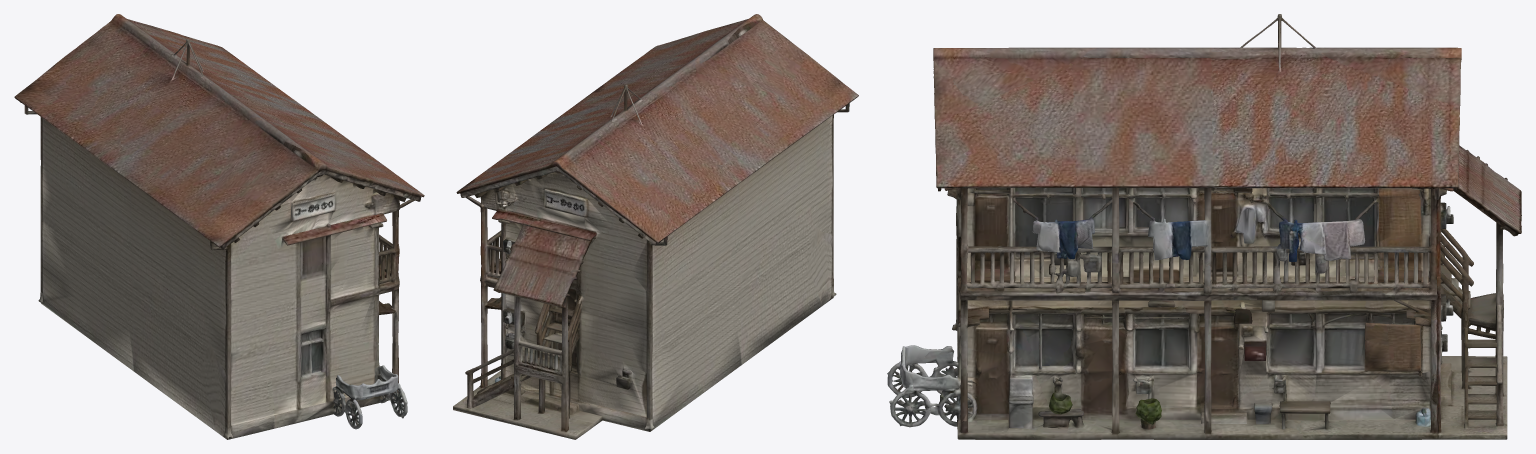
Rendered from apart.glb.
3 renders of one model, left to right at view 1: azimuth 30°, elevation 25°; view 2: azimuth 150°, elevation 25°; view 3: azimuth 270°, elevation 25°, orthographic. The views are drawn at different scales.
Visible parts, largest first — view 1: tripo_node_c4e6488b-d1ef-4af2-b8e8-cd70988db557; view 2: tripo_node_c4e6488b-d1ef-4af2-b8e8-cd70988db557; view 3: tripo_node_c4e6488b-d1ef-4af2-b8e8-cd70988db557.
Part boxes in pixels (x1=…): tripo_node_c4e6488b-d1ef-4af2-b8e8-cd70988db557: x1=14, y1=14, x2=424, y2=439; tripo_node_c4e6488b-d1ef-4af2-b8e8-cd70988db557: x1=453, y1=14, x2=858, y2=439; tripo_node_c4e6488b-d1ef-4af2-b8e8-cd70988db557: x1=887, y1=14, x2=1521, y2=439.
Size of the model in its own units: 0.4832 by 0.644 by 1.
Materials: 1 (1 with a texture image).
